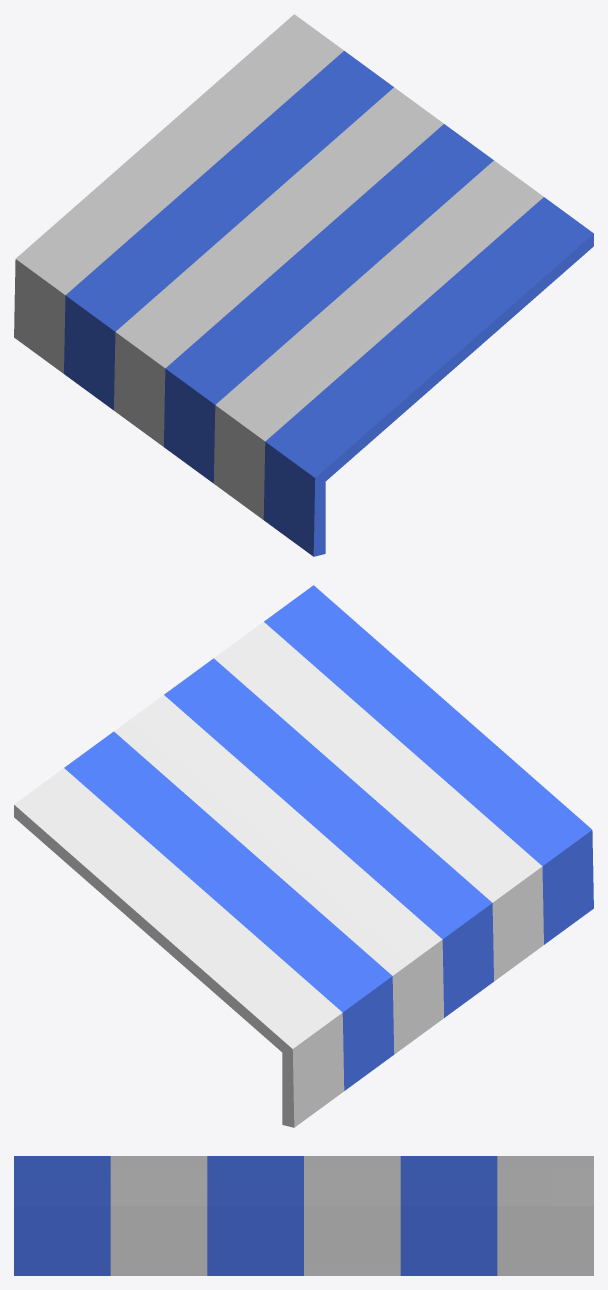
The model's file is Awning_2_B.fbx.
3 views of the same model, one above another, from view 1: azimuth 30°, elevation 25°; view 2: azimuth 150°, elevation 25°; view 3: azimuth 270°, elevation 25° (orthographic). The views are drawn at different scales.
Visible parts, largest first — view 1: Awning_2_B; view 2: Awning_2_B; view 3: Awning_2_B.
Part boxes in pixels (left/top/right/bottom): Awning_2_B: left=14, top=14, right=593, bottom=556; Awning_2_B: left=14, top=585, right=593, bottom=1127; Awning_2_B: left=14, top=1156, right=593, bottom=1275.
Bounding box in the file's own units: 111 × 96.45 × 205.
